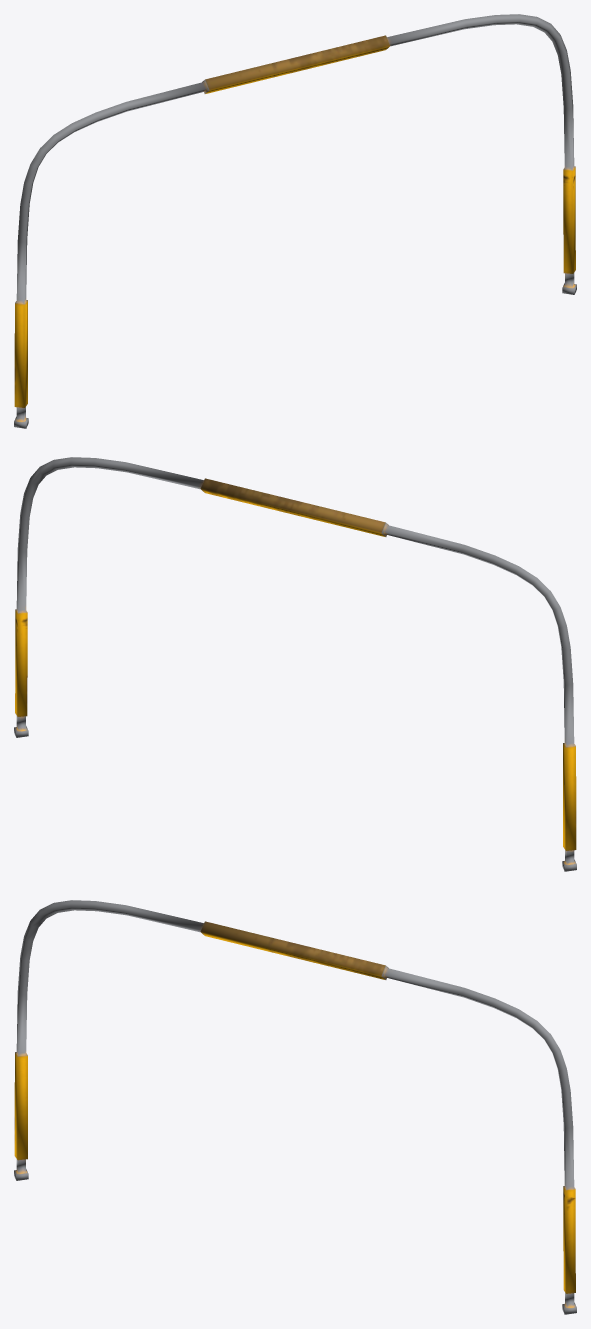
The model's file is bunker_rail.1172692a6e.glb.
The picture shows the model from 3 angles, top to bottom: view 1: azimuth 30°, elevation 25°; view 2: azimuth 150°, elevation 25°; view 3: azimuth 330°, elevation 25°; orthographic projection.
Visible parts, largest first — view 1: bunker_rail; view 2: bunker_rail; view 3: bunker_rail.
Boxes of the visible parts, <box> form: bunker_rail: <box>14,14,576,428</box>; bunker_rail: <box>14,457,576,871</box>; bunker_rail: <box>14,900,576,1314</box>.
Size of the model in its own units: 1.85 by 0.945 by 0.0556.
1 material, 1 textured.
